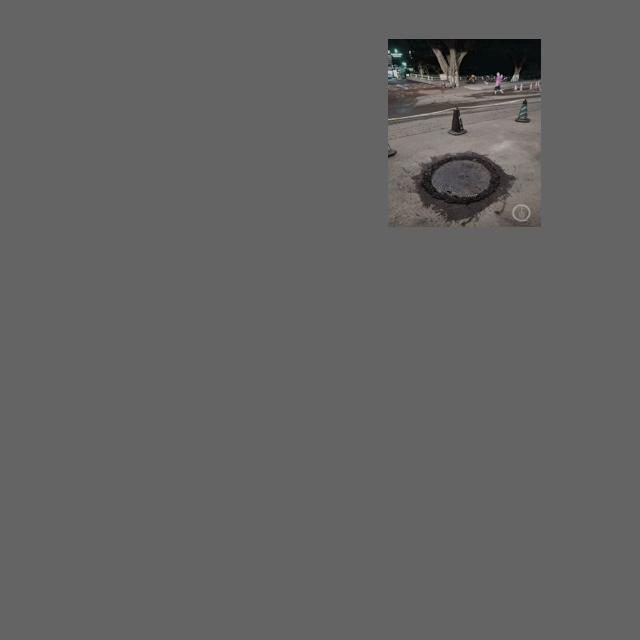good: (413, 149, 511, 217)
